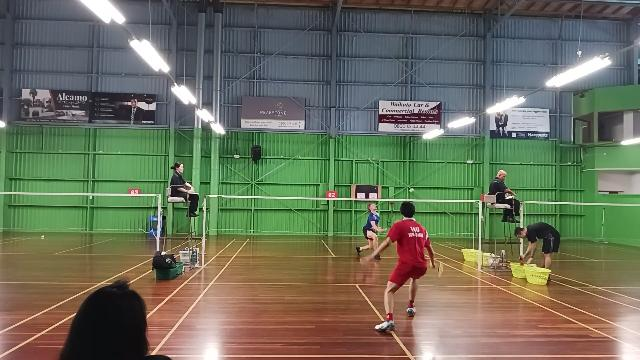Shuttlecock: (408, 187, 416, 194)
